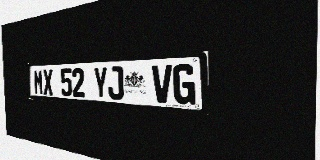2: (72, 68, 85, 98)
5: (60, 68, 72, 97)
G: (173, 64, 196, 105)
J: (108, 66, 124, 100)
M: (34, 69, 43, 95)
V: (152, 64, 172, 103)
X: (43, 69, 53, 95)
Y: (93, 67, 108, 99)
